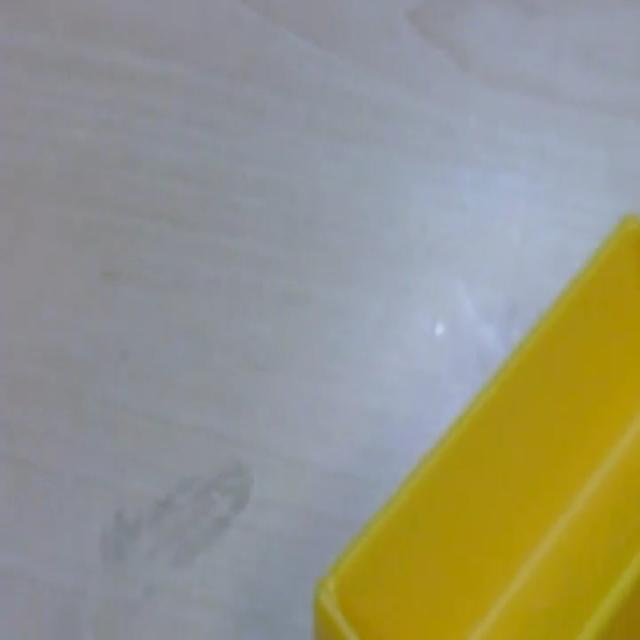yellow_block: (313, 210, 638, 638)
